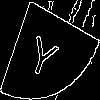Y: (25, 25, 64, 82)
